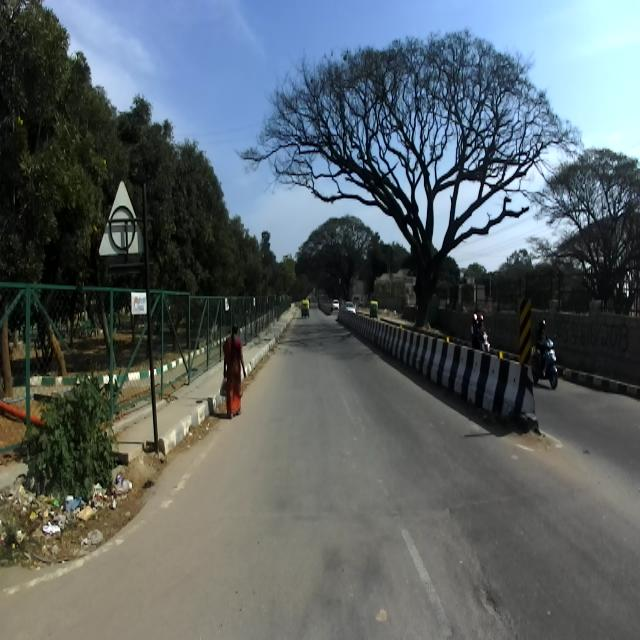person ahead at: (220, 317, 251, 417)
plant ahead at: (23, 362, 128, 534)
sign board ahead at: (98, 177, 150, 274)
